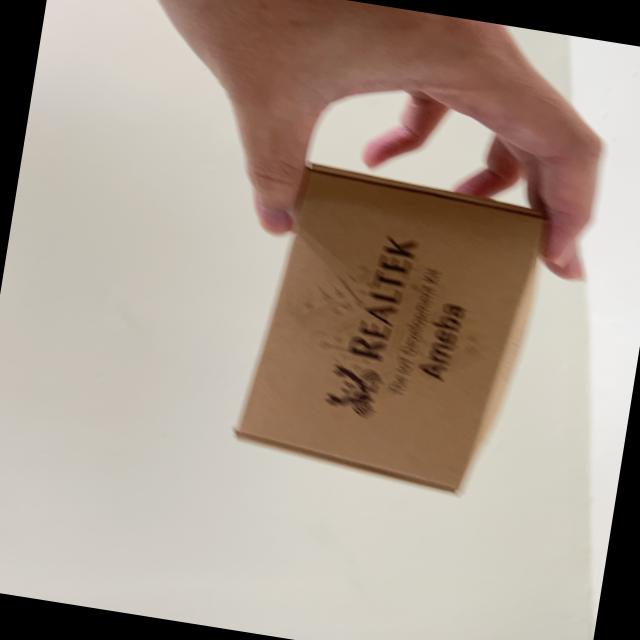box: (214, 148, 581, 512)
